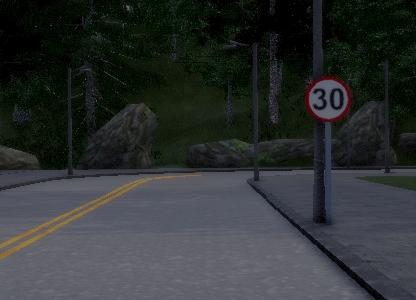Speed_30: (302, 76, 352, 121)
